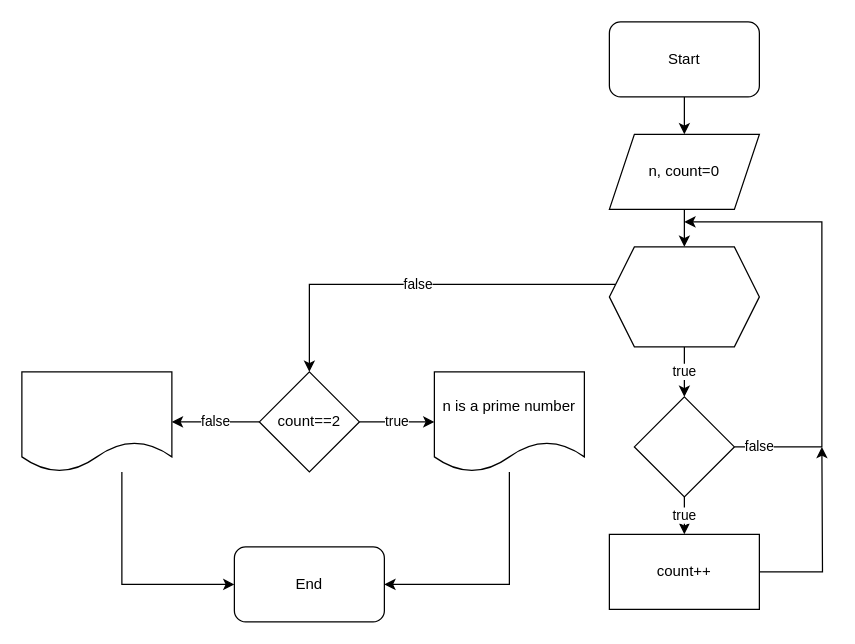
The diagram is 855 pixels wide and 644 high, and some of its shapes have lost their labels. Each missing label, with the centre of its shape:
"i=1;i<=n;i++" belongs at (x=683, y=296).
"n is a complex number" belongs at (x=96, y=421).
"n%i== 0" belongs at (x=683, y=446).
